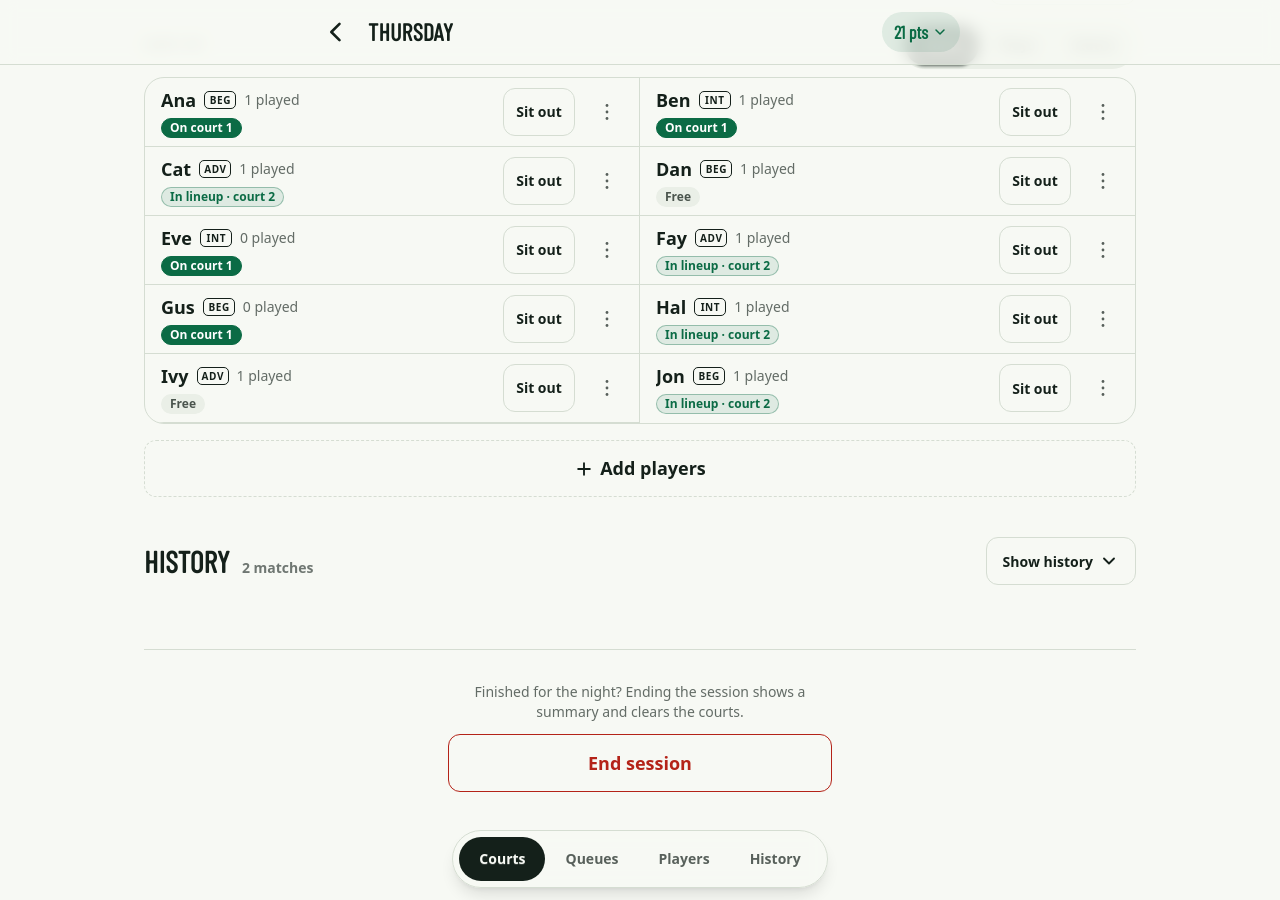
Test: EndSessionSection › Cancel keeps everything
(page scrolled)
Click the button "End session".
click(640, 763)  # box [448,734,832,792]
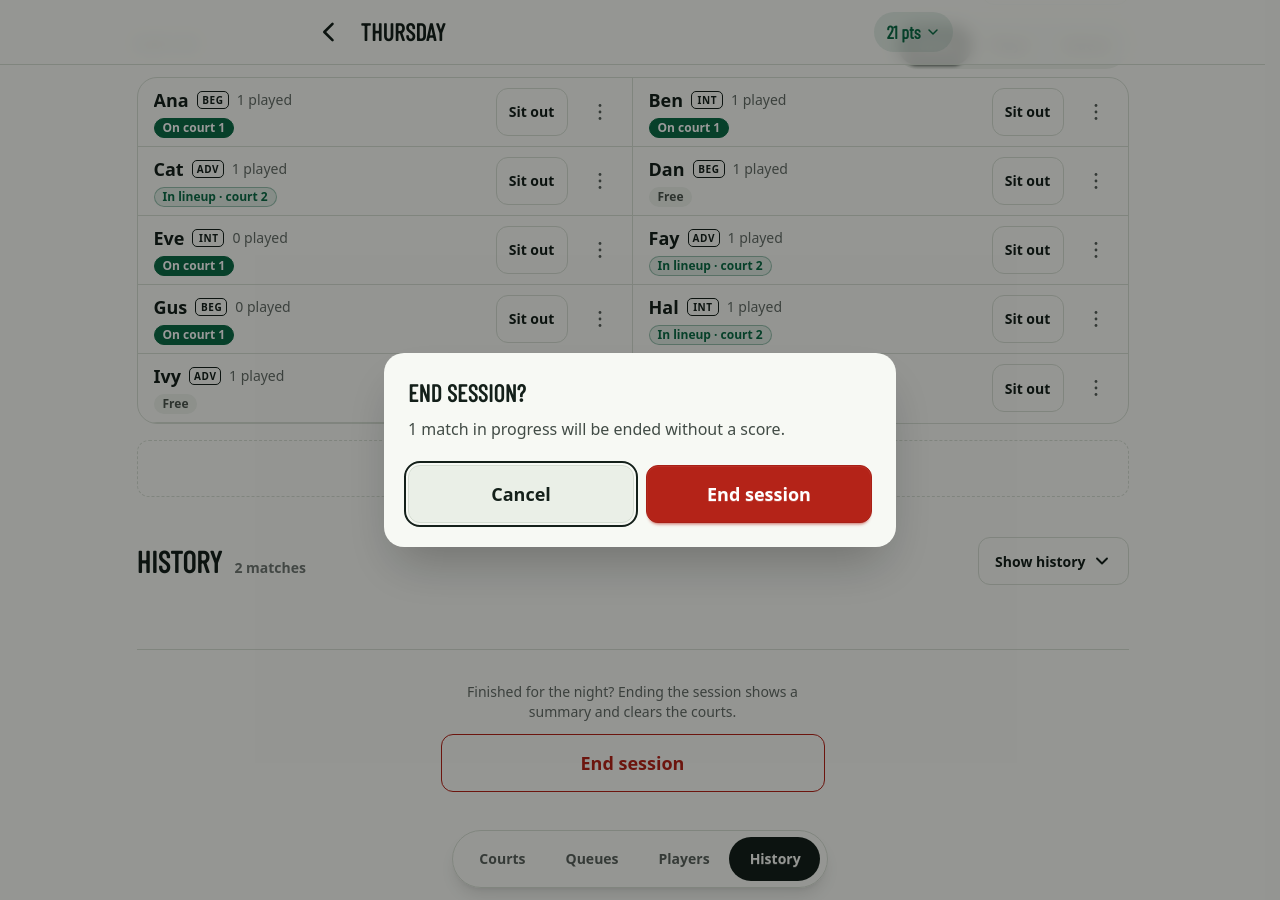
Click the button "Cancel".
click(521, 494)  # box [408,465,634,523]
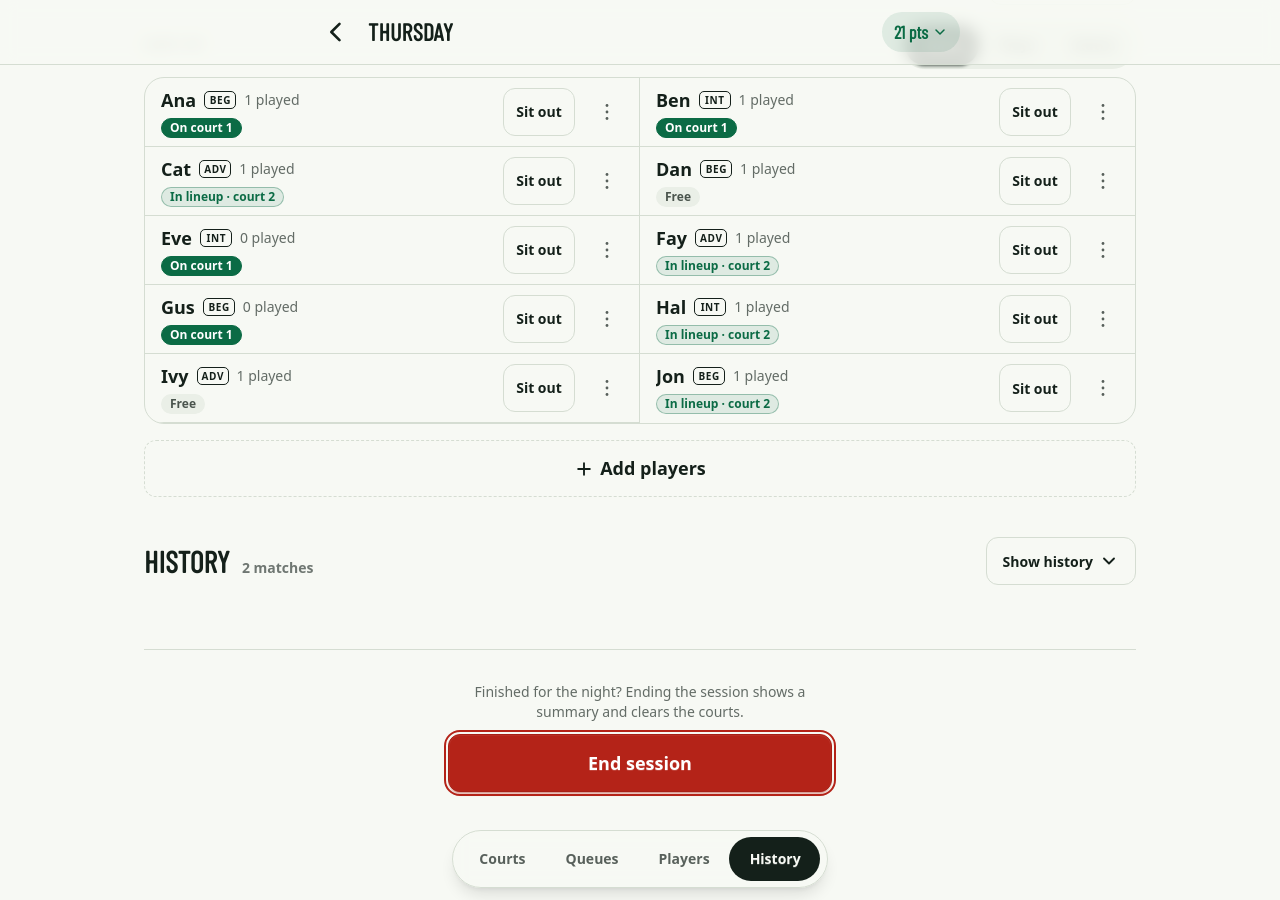
Expected: the dialog is gone
